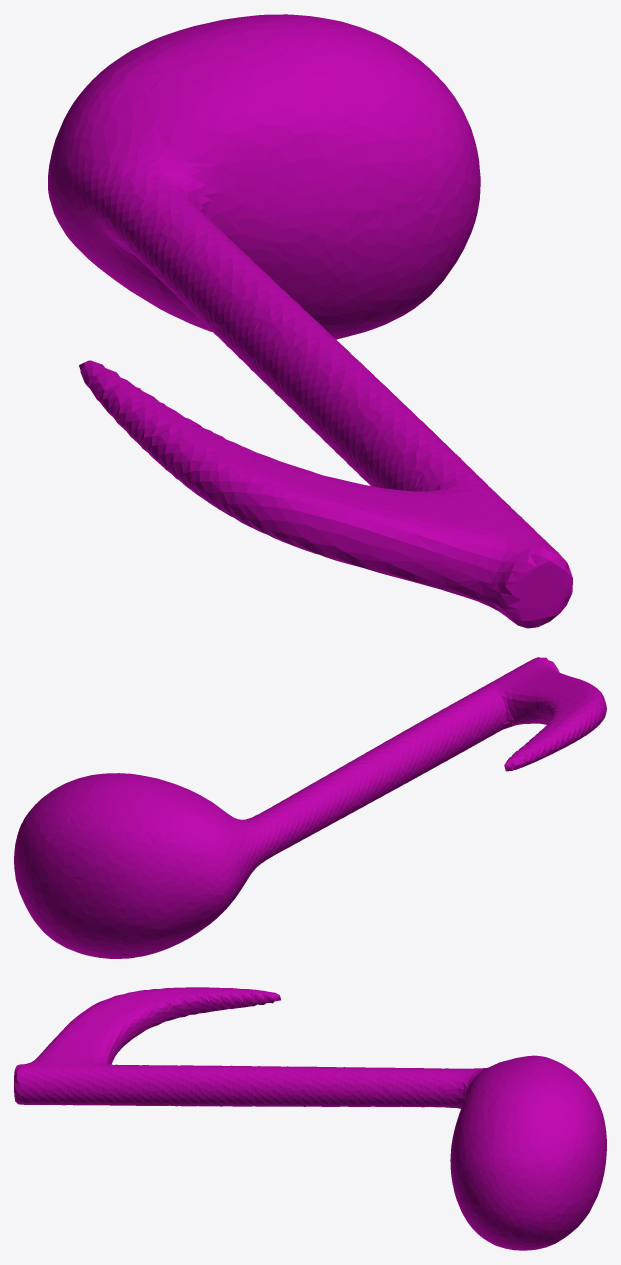
File: pinknote.obj
3 views of the same model, one above another, from view 1: azimuth 30°, elevation 25°; view 2: azimuth 150°, elevation 25°; view 3: azimuth 270°, elevation 25° (orthographic). The views are drawn at different scales.
Visible parts, largest first — view 1: Layer_1; view 2: Layer_1; view 3: Layer_1.
Part boxes in pixels (x1,y1,x2,y2): Layer_1: (48,14,572,628); Layer_1: (14,657,606,958); Layer_1: (14,987,606,1250).
Bounding box in the file's own units: 0.1219 × 0.0552 × 0.1925.
